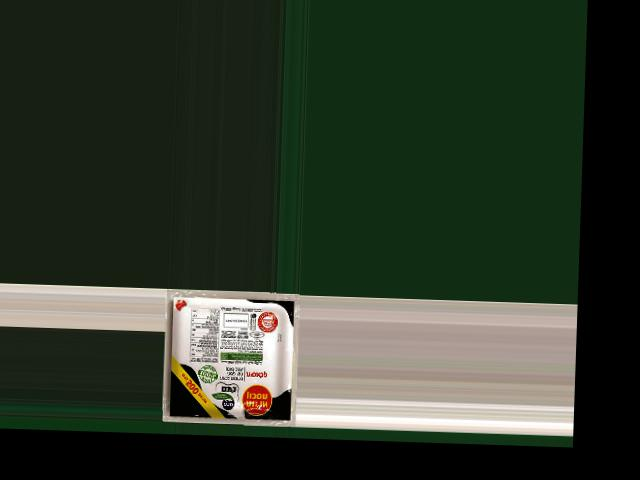cheese: (162, 300, 295, 417)
